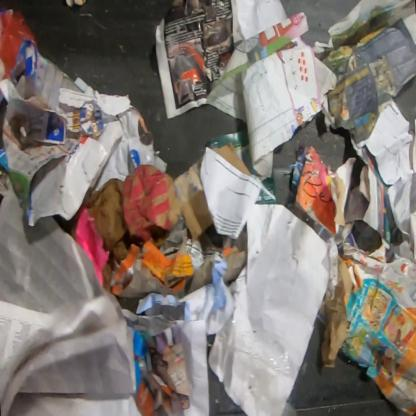cardboard: (338, 240, 415, 415), (57, 107, 169, 222), (293, 144, 357, 238), (320, 253, 354, 369), (171, 156, 214, 242), (211, 141, 253, 177)
soft_plastic: (219, 319, 293, 378), (0, 10, 38, 81)
